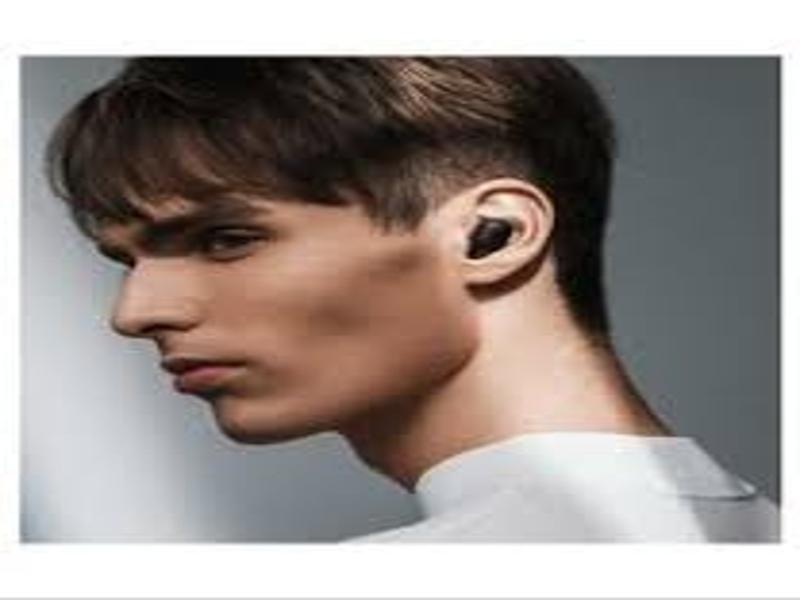headphone: (468, 216, 512, 261)
